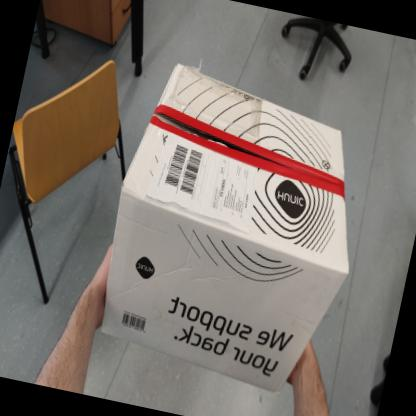box: (73, 51, 386, 403)
